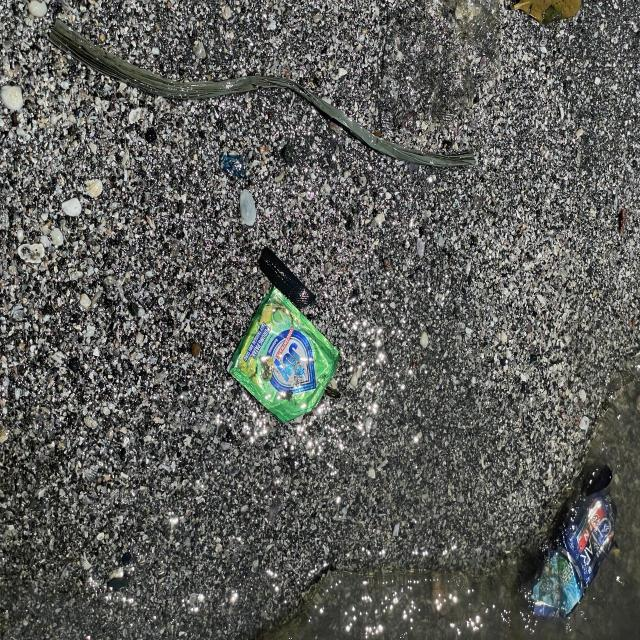plastic_waste: (228, 290, 341, 429)
